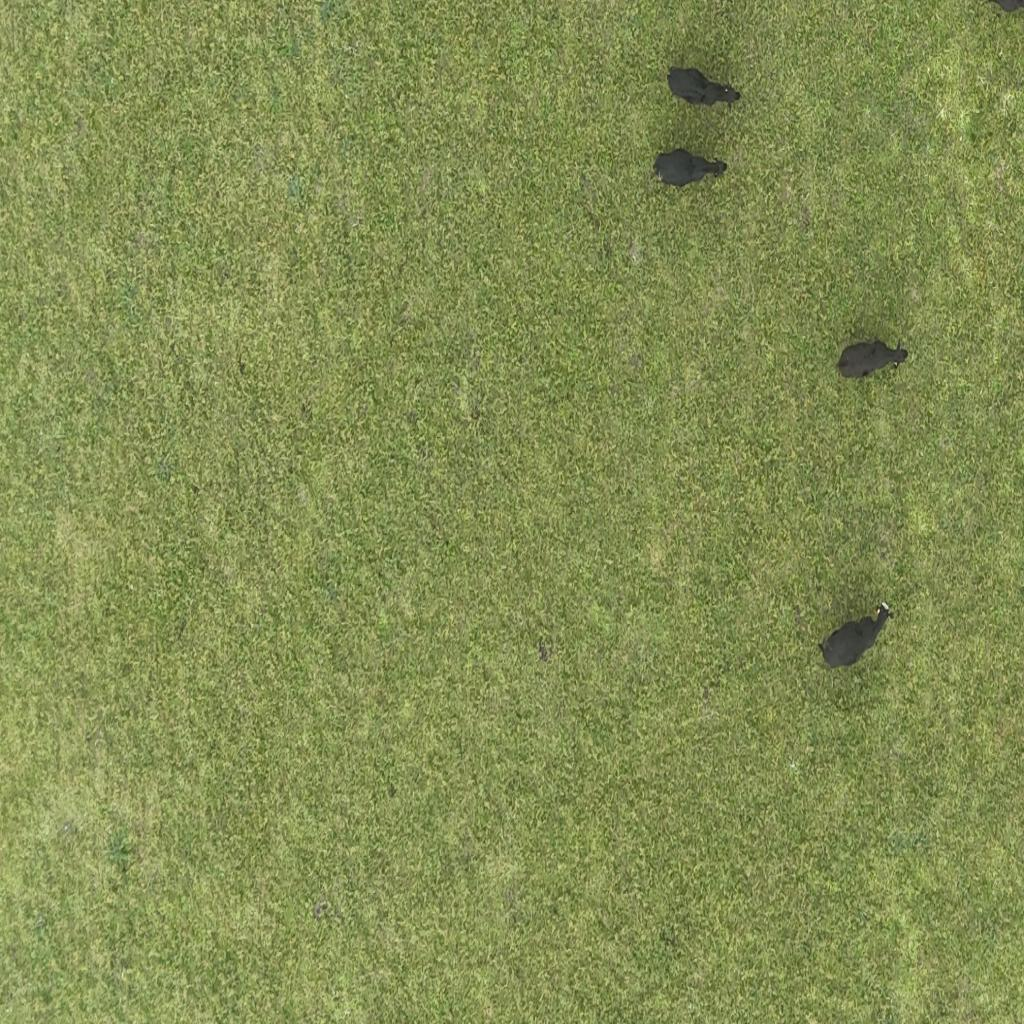cow: (817, 598, 894, 674), (666, 62, 743, 112), (834, 333, 909, 383), (651, 144, 727, 190)
